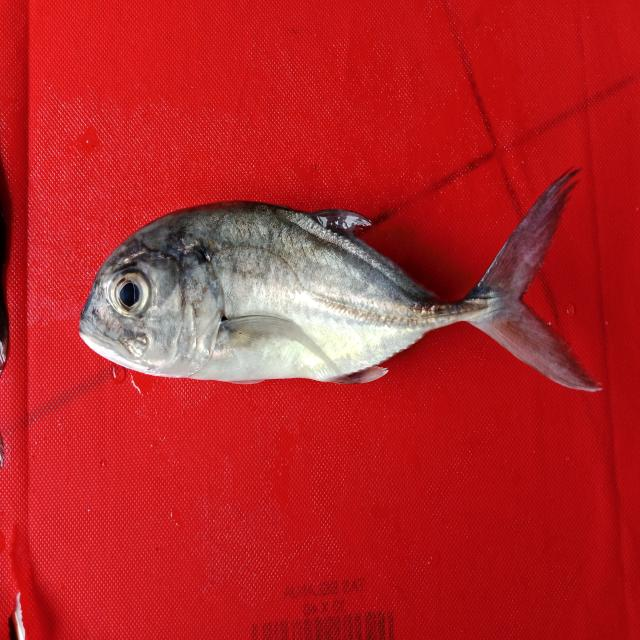ikan: (60, 147, 615, 410)
